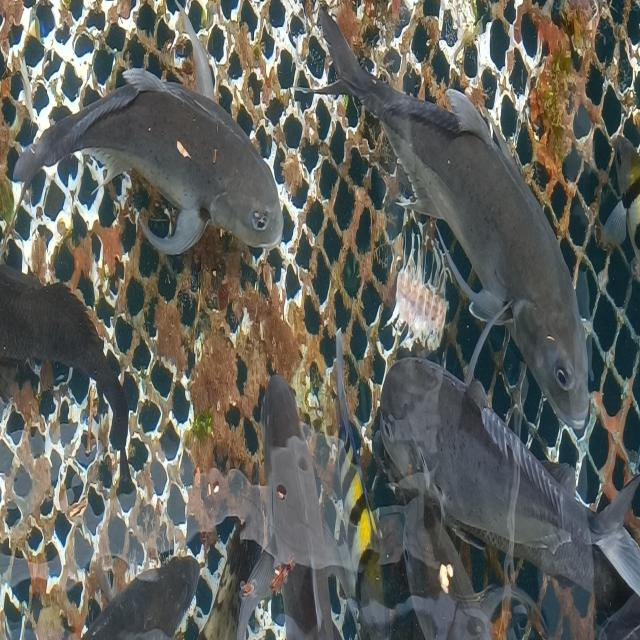ikan: (333, 13, 600, 438), (9, 39, 294, 293), (374, 336, 616, 583), (253, 357, 322, 622)
